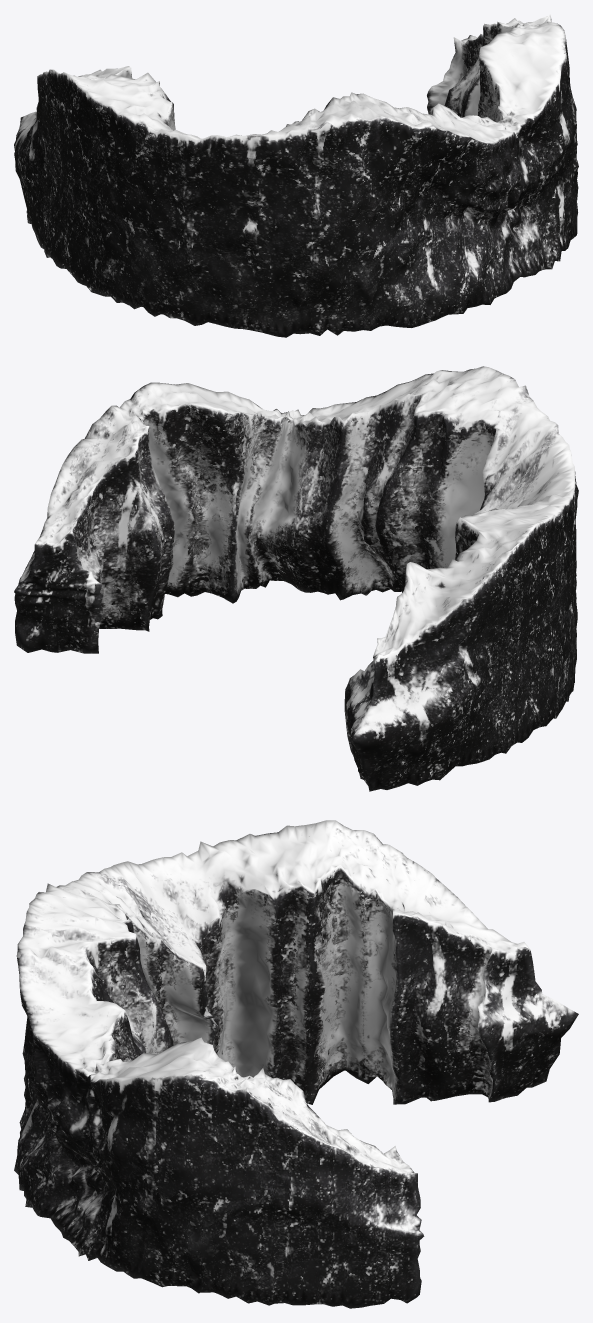
Rendered from quarry.fbx.
3 renders of one model, top to bottom at view 1: azimuth 30°, elevation 25°; view 2: azimuth 150°, elevation 25°; view 3: azimuth 270°, elevation 25°, orthographic. The views are drawn at different scales.
Visible parts, largest first — view 1: RingWave001; view 2: RingWave001; view 3: RingWave001.
Boxes of the visible parts, x1=… form: RingWave001: x1=14, y1=14, x2=578, y2=337; RingWave001: x1=14, y1=366, x2=578, y2=791; RingWave001: x1=14, y1=820, x2=578, y2=1308.
Size of the model in its own units: 984 by 449 by 906.
